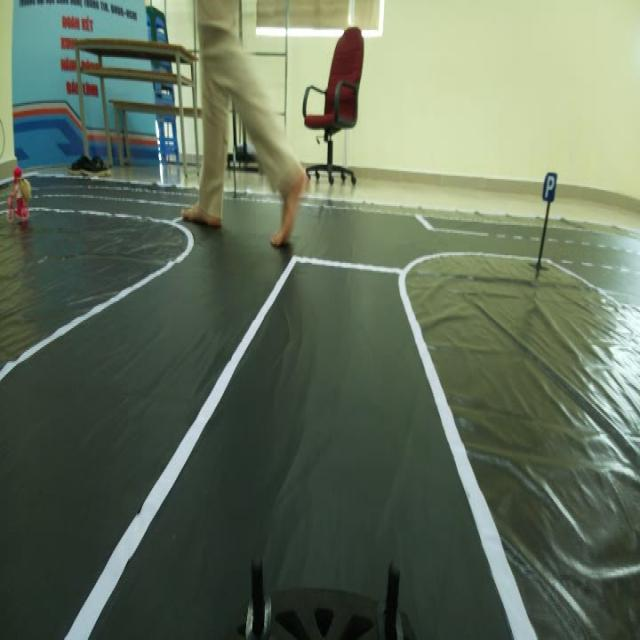parking: (542, 167, 563, 207)
